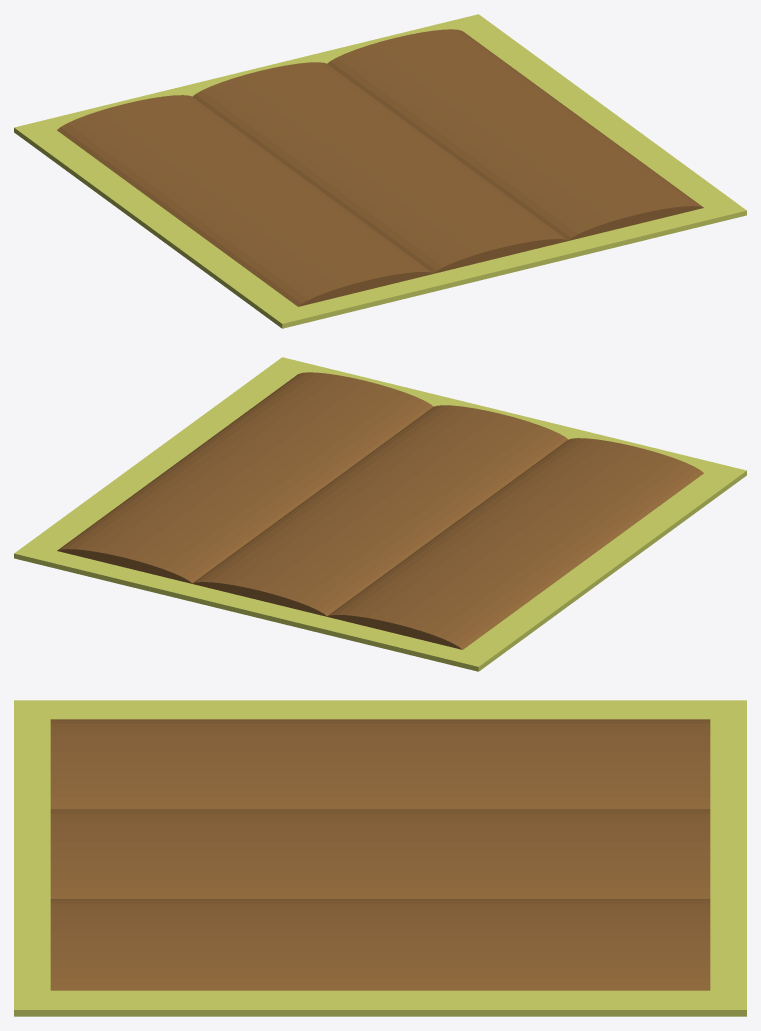
The model's file is plowed_field.fbx.
The picture shows the model from 3 angles, top to bottom: view 1: azimuth 30°, elevation 25°; view 2: azimuth 150°, elevation 25°; view 3: azimuth 270°, elevation 25°; orthographic projection. The views are drawn at different scales.
Parts seen in each view (by area): view 1: Path, Ground; view 2: Path, Ground; view 3: Path, Ground.
Part boxes in pixels (<box>): Path: <box>57,29,703,306</box>; Ground: <box>14,14,746,328</box>; Path: <box>57,372,703,649</box>; Ground: <box>14,357,746,671</box>; Path: <box>50,719,710,990</box>; Ground: <box>14,700,746,1016</box>.
Size of the model in its own units: 200 by 6 by 200.
